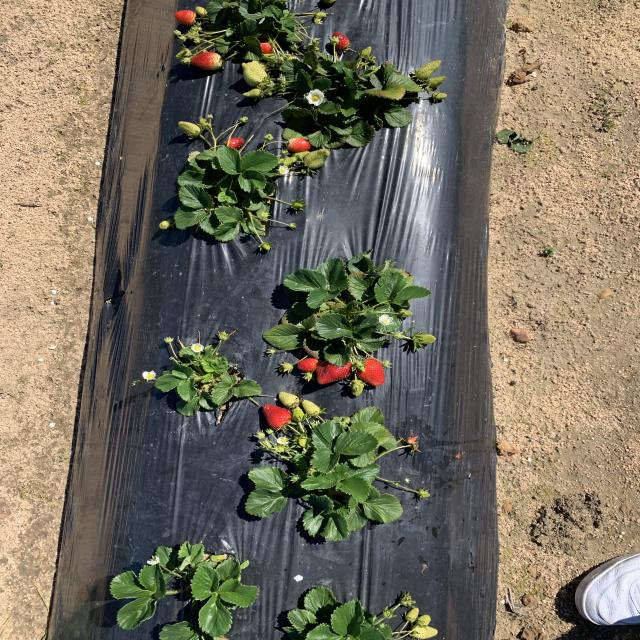unripe: (316, 354, 352, 386), (355, 357, 388, 388), (260, 404, 294, 428), (190, 52, 224, 70), (329, 31, 351, 50), (174, 10, 198, 26), (297, 357, 320, 372), (289, 138, 310, 152), (225, 138, 246, 150), (259, 41, 272, 54)
